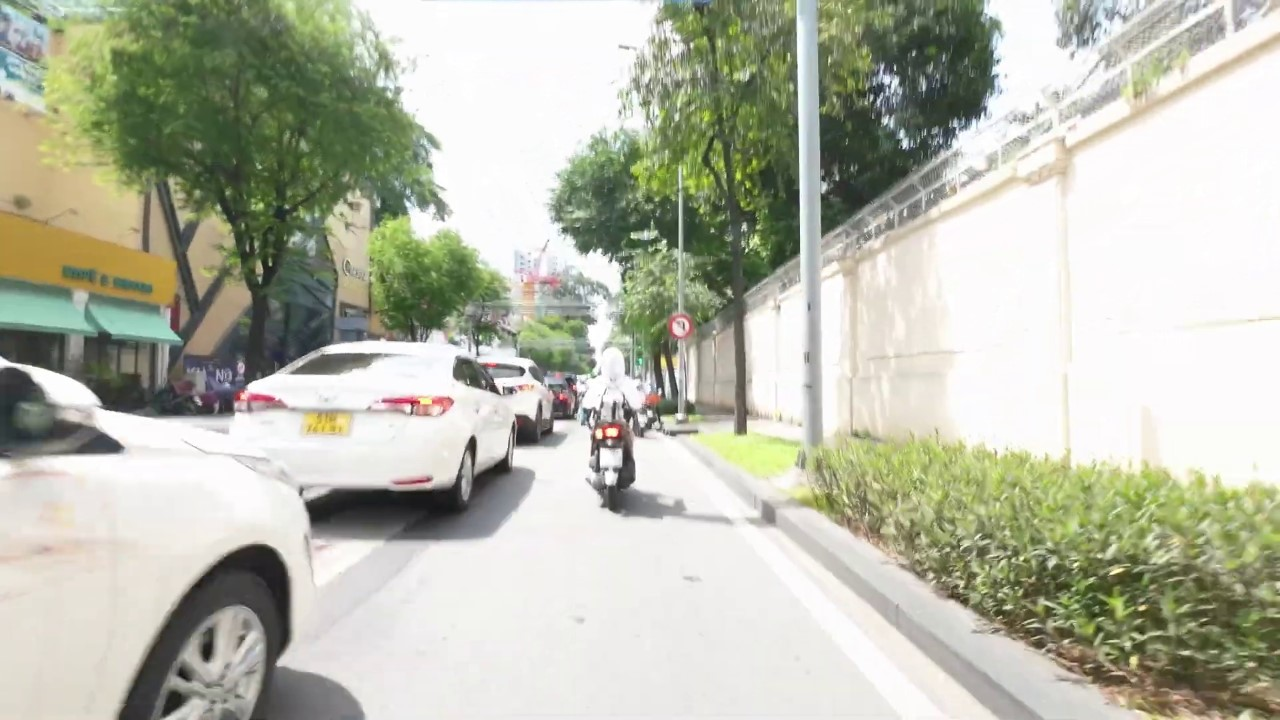cam_re_trai: (668, 314, 693, 339)
